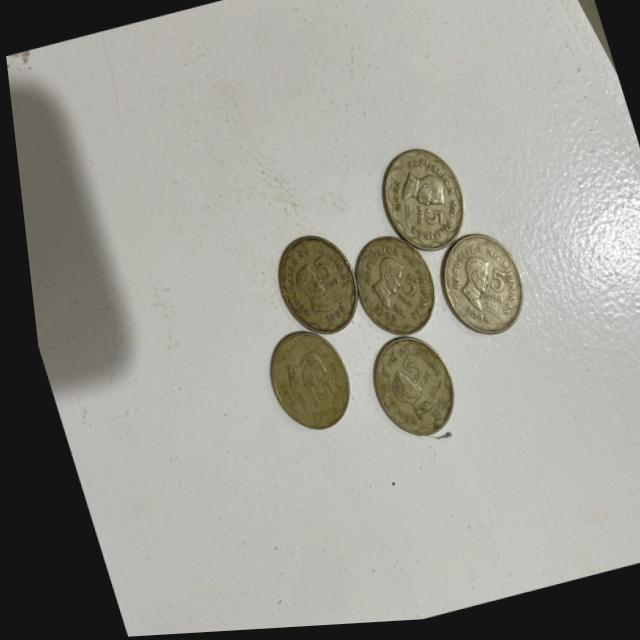5_Old_Front: (467, 268, 508, 321), (380, 269, 420, 320), (399, 203, 443, 243), (387, 351, 424, 398), (289, 383, 333, 421), (301, 253, 335, 300)
